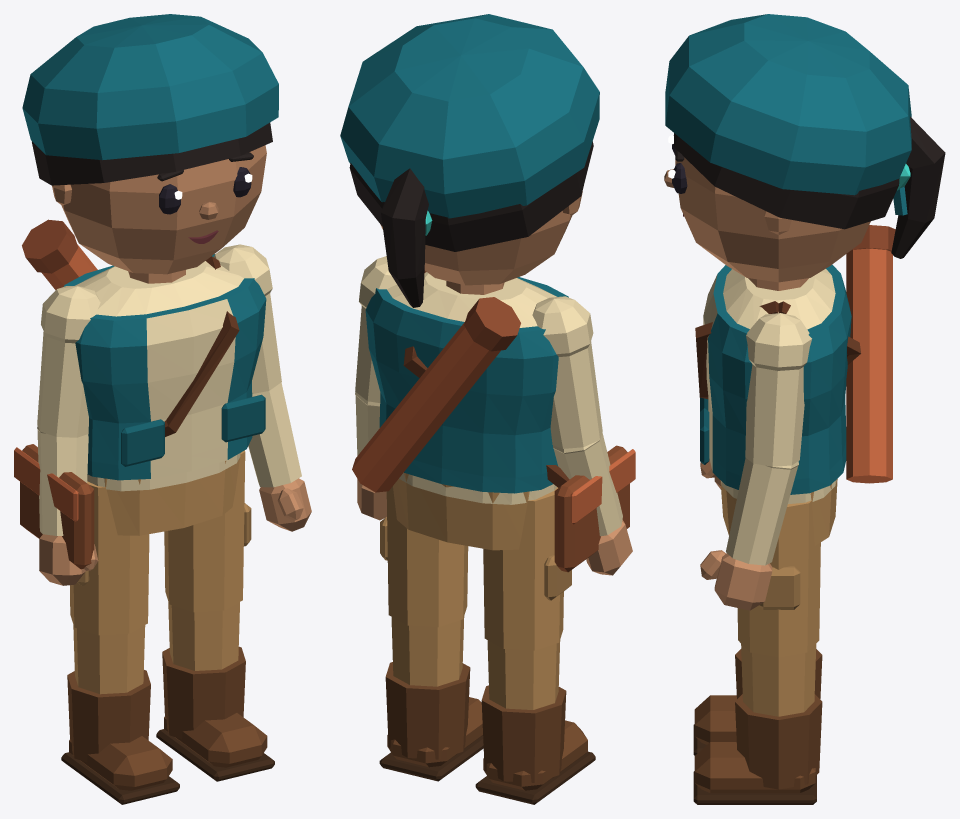
The model's file is dun-n1.glb.
3 views of the same model, side by side, from view 1: azimuth 30°, elevation 25°; view 2: azimuth 150°, elevation 25°; view 3: azimuth 270°, elevation 25° (orthographic).
Parts seen in each view (by area): view 1: kopfbedeckung, weste, kopf, bein_l, bein_r, arm_r, schuh_l, schuh_r, accessoire_mapbag, torso, arm_l, becken (+6 smaller); view 2: kopfbedeckung, weste, bein_r, bein_l, accessoire_mapcase, haare, arm_r, schuh_r, schuh_l, becken, accessoire_mapbag, kopf (+4 smaller); view 3: kopfbedeckung, weste, arm_l, bein_l, accessoire_mapcase, kopf, schuh_l, haare, torso, hand_l, schuh_r, becken (+3 smaller).
Boxes of the visible parts, x1=… form: kopfbedeckung: x1=22, y1=14, x2=278, y2=160; weste: x1=63, y1=254, x2=266, y2=480; kopf: x1=52, y1=145, x2=266, y2=274; bein_l: x1=164, y1=450, x2=251, y2=670; bein_r: x1=70, y1=481, x2=149, y2=694; arm_r: x1=37, y1=286, x2=100, y2=535; schuh_l: x1=156, y1=646, x2=274, y2=781; schuh_r: x1=61, y1=670, x2=179, y2=804; accessoire_mapbag: x1=14, y1=256, x2=239, y2=569; torso: x1=75, y1=261, x2=243, y2=491; arm_l: x1=213, y1=244, x2=301, y2=487; becken: x1=104, y1=453, x2=240, y2=535; kopfbedeckung: x1=340, y1=14, x2=599, y2=235; weste: x1=365, y1=277, x2=568, y2=493; bein_r: x1=483, y1=487, x2=571, y2=709; bein_l: x1=380, y1=486, x2=468, y2=686; accessoire_mapcase: x1=352, y1=297, x2=520, y2=492; haare: x1=349, y1=141, x2=593, y2=307; arm_r: x1=532, y1=296, x2=622, y2=536; schuh_r: x1=475, y1=685, x2=595, y2=804; schuh_l: x1=379, y1=662, x2=483, y2=781; becken: x1=393, y1=473, x2=529, y2=550; accessoire_mapbag: x1=403, y1=270, x2=635, y2=572; kopf: x1=380, y1=191, x2=582, y2=285; kopfbedeckung: x1=665, y1=14, x2=911, y2=215; weste: x1=703, y1=264, x2=851, y2=494; arm_l: x1=726, y1=313, x2=811, y2=565; bein_l: x1=737, y1=500, x2=820, y2=716; accessoire_mapcase: x1=846, y1=225, x2=895, y2=483; kopf: x1=675, y1=157, x2=870, y2=282; schuh_l: x1=693, y1=694, x2=822, y2=804; haare: x1=674, y1=116, x2=945, y2=258; torso: x1=721, y1=269, x2=836, y2=503; hand_l: x1=700, y1=550, x2=772, y2=610; schuh_r: x1=693, y1=649, x2=822, y2=755; becken: x1=720, y1=479, x2=837, y2=545.
Bounding box in the file's own units: 0.00972 × 0.026 × 0.009.
